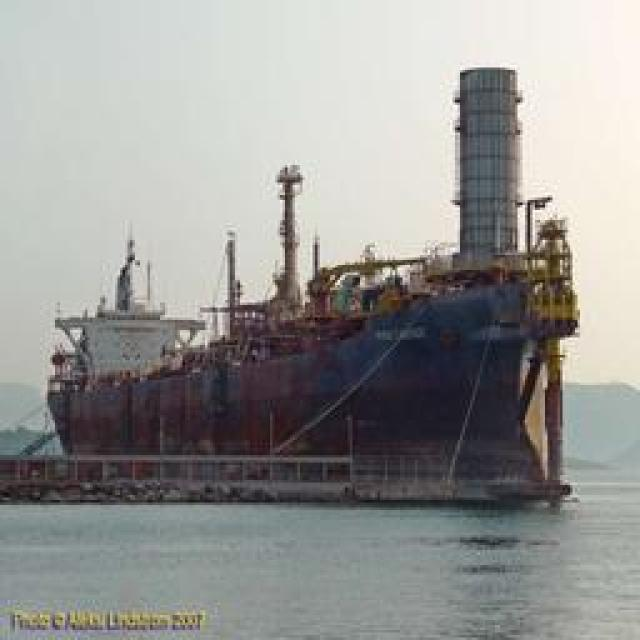ship2: (45, 168, 579, 503)
